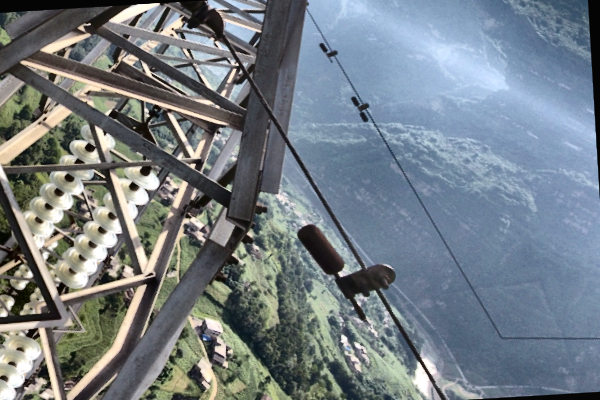damper: (349, 93, 371, 124)
damper_defect: (294, 222, 397, 332), (316, 40, 339, 65)
